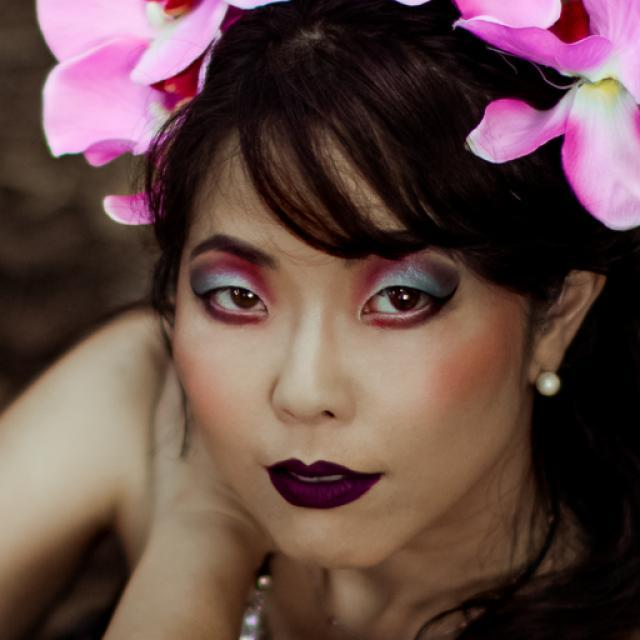surprise: (172, 122, 526, 568)
